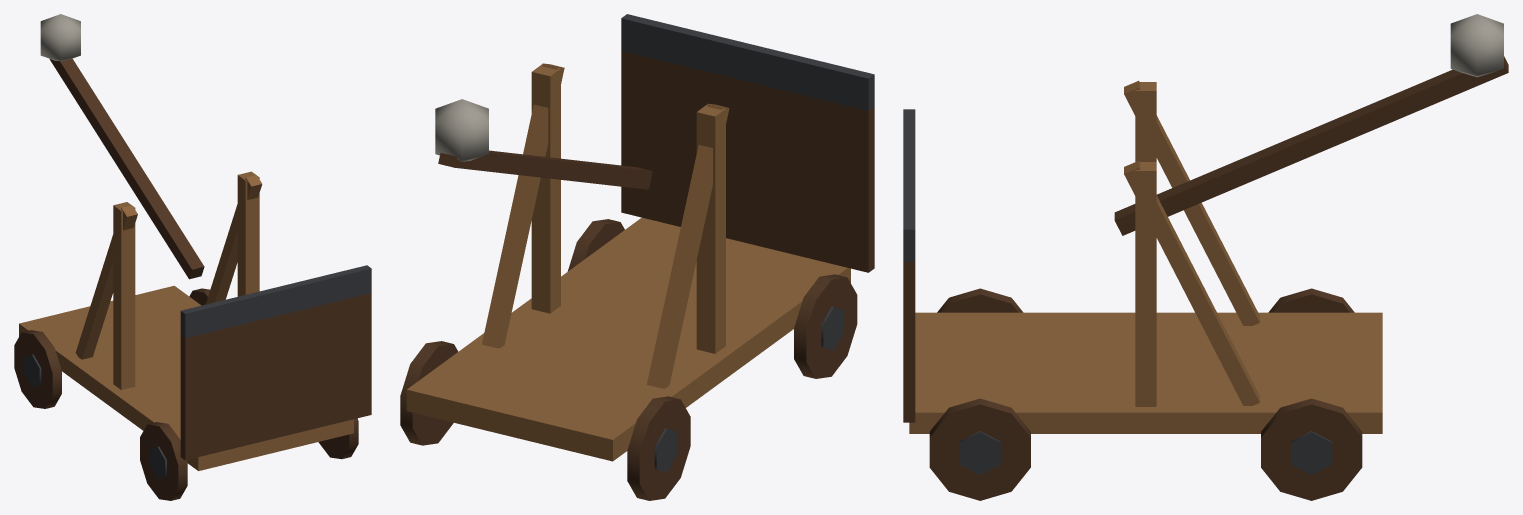
File: unit_mil_catapult_a03.glb
3 views of the same model, side by side, from view 1: azimuth 30°, elevation 25°; view 2: azimuth 150°, elevation 25°; view 3: azimuth 270°, elevation 25° (orthographic). The views are drawn at different scales.
Parts seen in each view (by area): view 1: body, arm, wheel_0, wheel_2, wheel_3; view 2: body, arm, wheel_2, wheel_0, wheel_1, wheel_3; view 3: body, arm, wheel_3, wheel_1, wheel_0, wheel_2.
Part boxes in pixels (x1,y1,x2,y2): body: [19, 171, 371, 470]; arm: [40, 14, 204, 279]; wheel_0: [14, 330, 61, 408]; wheel_2: [140, 422, 187, 500]; wheel_3: [318, 418, 358, 459]; body: [406, 14, 874, 461]; arm: [435, 99, 652, 189]; wheel_2: [794, 274, 857, 378]; wheel_0: [627, 396, 690, 500]; wheel_1: [400, 341, 458, 445]; wheel_3: [567, 219, 624, 271]; body: [903, 80, 1382, 433]; arm: [1114, 14, 1508, 235]; wheel_3: [929, 398, 1030, 500]; wheel_1: [1261, 398, 1362, 500]; wheel_0: [1268, 288, 1354, 312]; wheel_2: [937, 288, 1023, 312].
Size of what is drawn, in the model's own units: 2.4 by 4 by 5.12.
